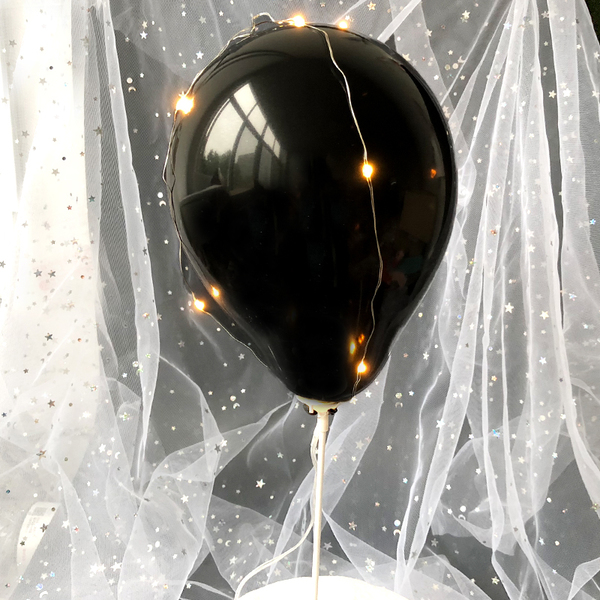balloon: (165, 20, 460, 417)
